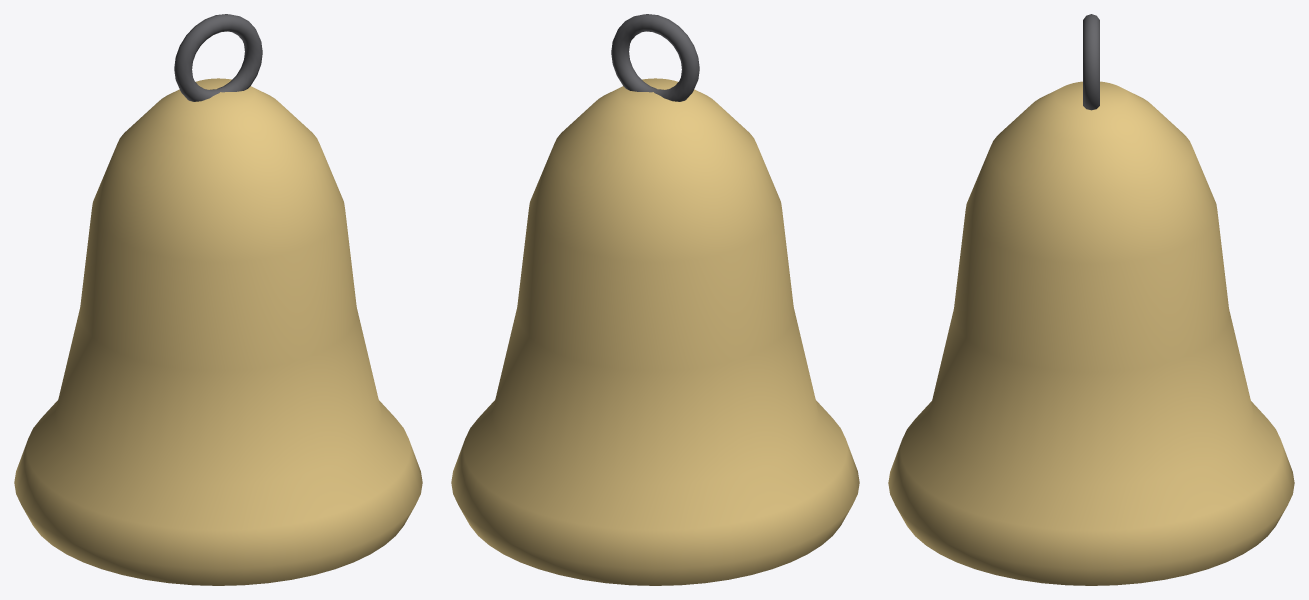
The model's file is bell.glb.
3 views of the same model, side by side, from view 1: azimuth 30°, elevation 25°; view 2: azimuth 150°, elevation 25°; view 3: azimuth 270°, elevation 25° (orthographic).
Parts seen in each view (by area): view 1: Bell, Crown; view 2: Bell, Crown; view 3: Bell, Crown.
Boxes of the visible parts, x1,y1,x2,y2 form: Bell: (14, 78, 422, 585); Crown: (174, 14, 262, 101); Bell: (451, 78, 859, 585); Crown: (611, 14, 699, 101); Bell: (888, 81, 1294, 585); Crown: (1083, 14, 1099, 110).
Size of the model in its own units: 0.5 by 0.661 by 0.5.
